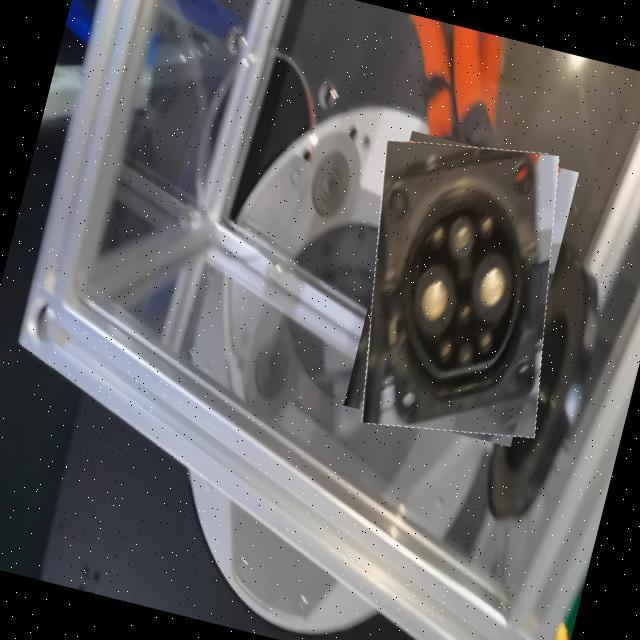GB-T: (373, 162, 557, 420)
